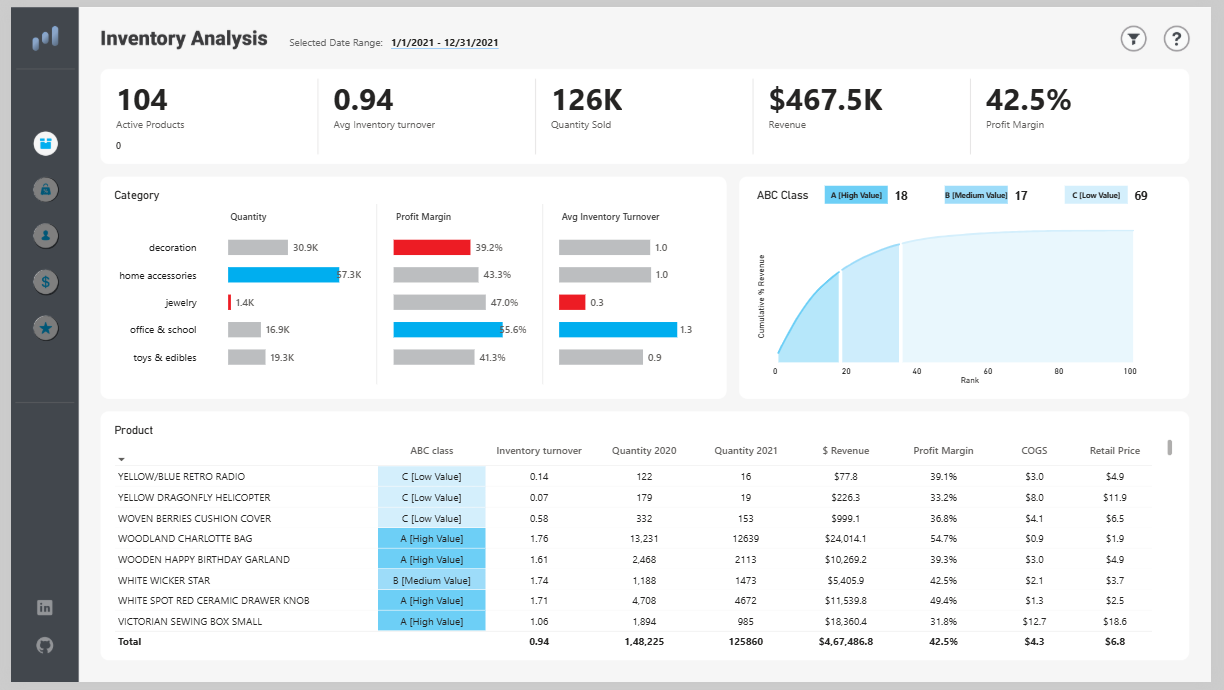

Layout of this report page (visuals, bound fields, positions):
{"tool":"powerbi","page":{"name":"Inventory_Analysis_Dashboard","canvas":[1920,1080],"ordinal":0},"visuals":[{"type":"tableEx","title":"Product","fields":{"Values":["Stock.Description","Stock.ABC_class","#Measures.Inventory turnover","#Measures.Quantity 2020","#Measures.Quantity 2021","#Measures.$ Revenue 2021","#Measures.Profit Margin 2021","#Measures.Avg Cogs","#Measures.Retail Price"]},"box":[159.6,665,1703.8,369.8],"z":0},{"type":"cardVisual","fields":{"Data":["#Measures.# NumOfProducts","#Measures.Avg Inventory turnover","#Measures.Quantity 2021","#Measures.$ Revenue 2021","#Measures.Profit Margin 2021"]},"box":[144.9,87,1749.2,153],"z":1000},{"type":"actionButton","box":[35,272,41,41],"z":2000},{"type":"barChart","title":"Category","fields":{"Category":["Stock.Category"],"Rows":["Placeholder.Placeholder_Text"],"Y":["#Measures.Placeholder/Quantity-Margin-AvgTurnOver"]},"box":[159.9,290.4,975.4,319.8],"z":3000},{"type":"actionButton","box":[35,345,41,42],"z":4000},{"type":"areaChart","title":"ABC Class","fields":{"Category":["Stock.%_cp_revenue_2021_Rank"],"Series":["Stock.ABC_class"],"Y":["Min(Stock.%_cp_revenue_2021)"]},"box":[1188.1,290,674.7,319],"z":5000},{"type":"actionButton","box":[35,419,41,42],"z":6000},{"type":"actionButton","box":[35,493,41,41],"z":7000},{"type":"textbox","box":[440,39,463.3,38.3],"z":8000},{"type":"actionButton","box":[35.1,943,37.2,33.5],"z":9000},{"type":"actionButton","box":[35.1,1004,37.2,33.5],"z":10000},{"type":"cardVisual","fields":{"Data":["#Measures.# NumOfProducts"],"Rows":["Stock.ABC_class"]},"box":[1302.9,286,570.6,29.8],"z":11000}]}

Visuals, with their boxes on the page's 1920x1080 design canvas (x1, y1, x2, y2). These are canvas units, not pixel positions in the 1224x690 screenshot, which may show the page scaled, cropped or inside an application window:
"Product" tableEx: <box>160,665,1863,1035</box>
cardVisual - #Measures.# NumOfProducts x #Measures.Avg Inventory turnover: <box>145,87,1894,240</box>
actionButton: <box>35,272,76,313</box>
"Category" barChart: <box>160,290,1135,610</box>
actionButton: <box>35,345,76,387</box>
"ABC Class" areaChart: <box>1188,290,1863,609</box>
actionButton: <box>35,419,76,461</box>
actionButton: <box>35,493,76,534</box>
textbox: <box>440,39,903,77</box>
actionButton: <box>35,943,72,976</box>
actionButton: <box>35,1004,72,1038</box>
cardVisual - #Measures.# NumOfProducts x Stock.ABC_class: <box>1303,286,1874,316</box>
